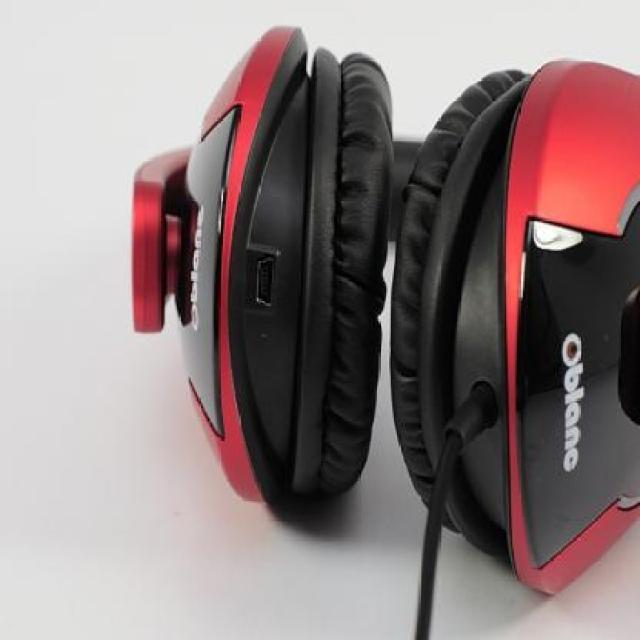earphone: (121, 10, 640, 605)
